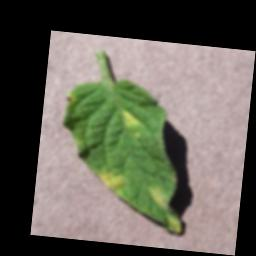Leaf_Mold: (95, 169, 129, 198), (146, 185, 173, 211), (119, 109, 142, 133)
